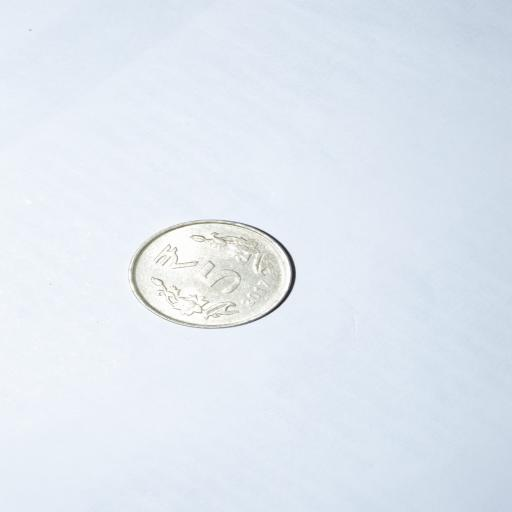rupee5: (123, 218, 302, 332)
